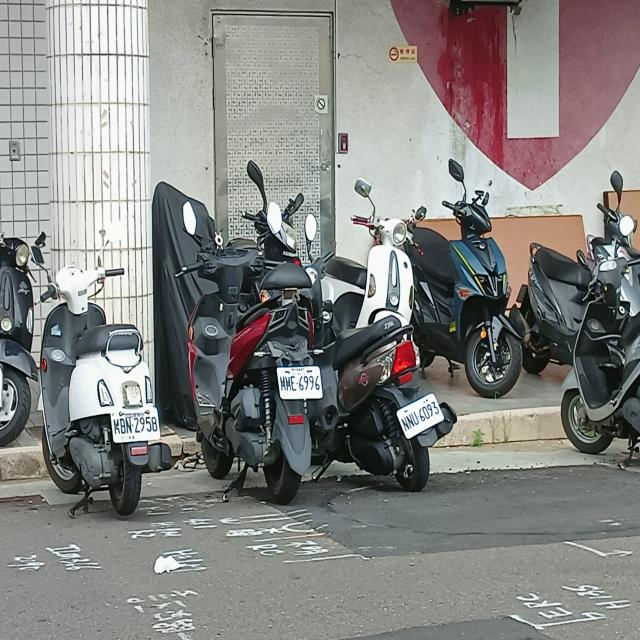license-plate: (397, 394, 444, 438), (110, 406, 162, 440), (278, 369, 322, 398)
